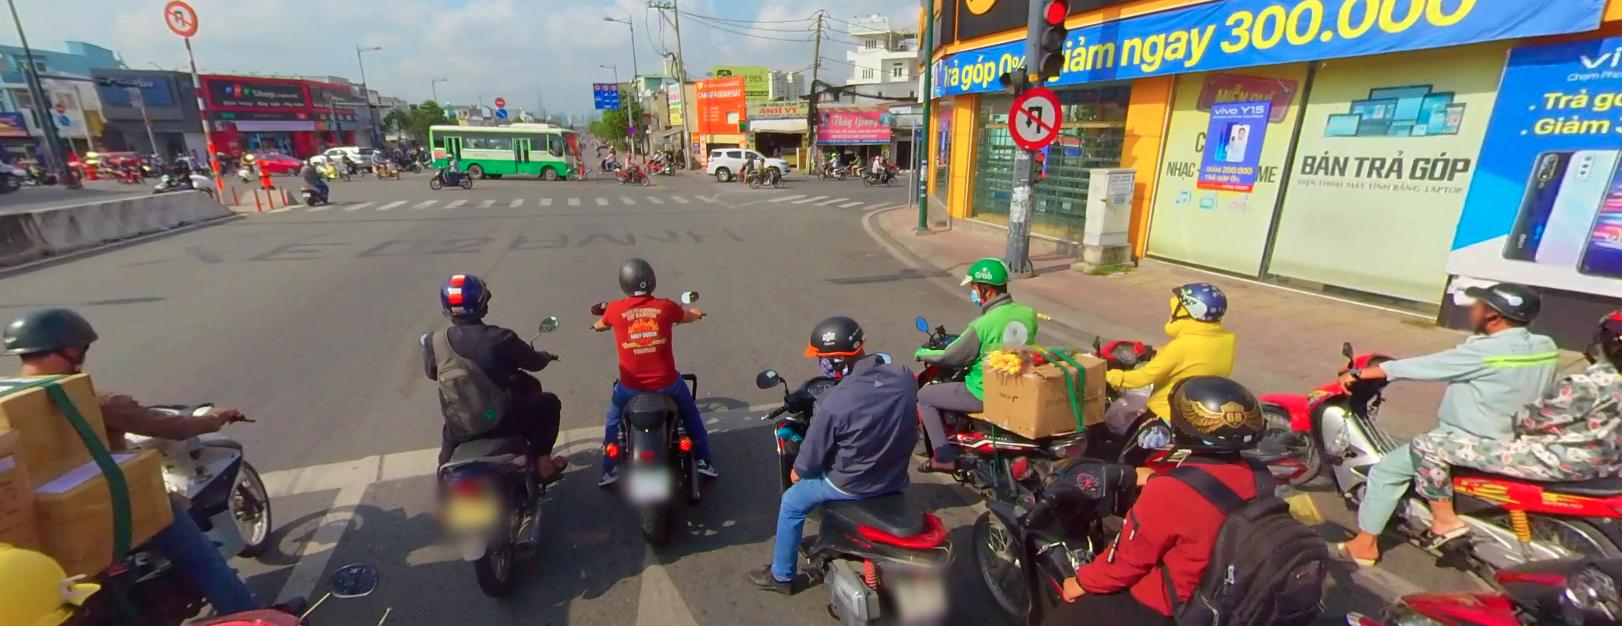Cam dung va do: (626, 126, 636, 134)
Cam nguoc chieu: (54, 100, 68, 112), (494, 96, 505, 106)
Cam re: (1008, 89, 1063, 149), (160, 0, 198, 36)
Gioi han toc do: (610, 84, 616, 90), (602, 84, 607, 90), (594, 84, 599, 89)
Hieu lenh: (56, 114, 69, 125), (496, 107, 507, 116)
